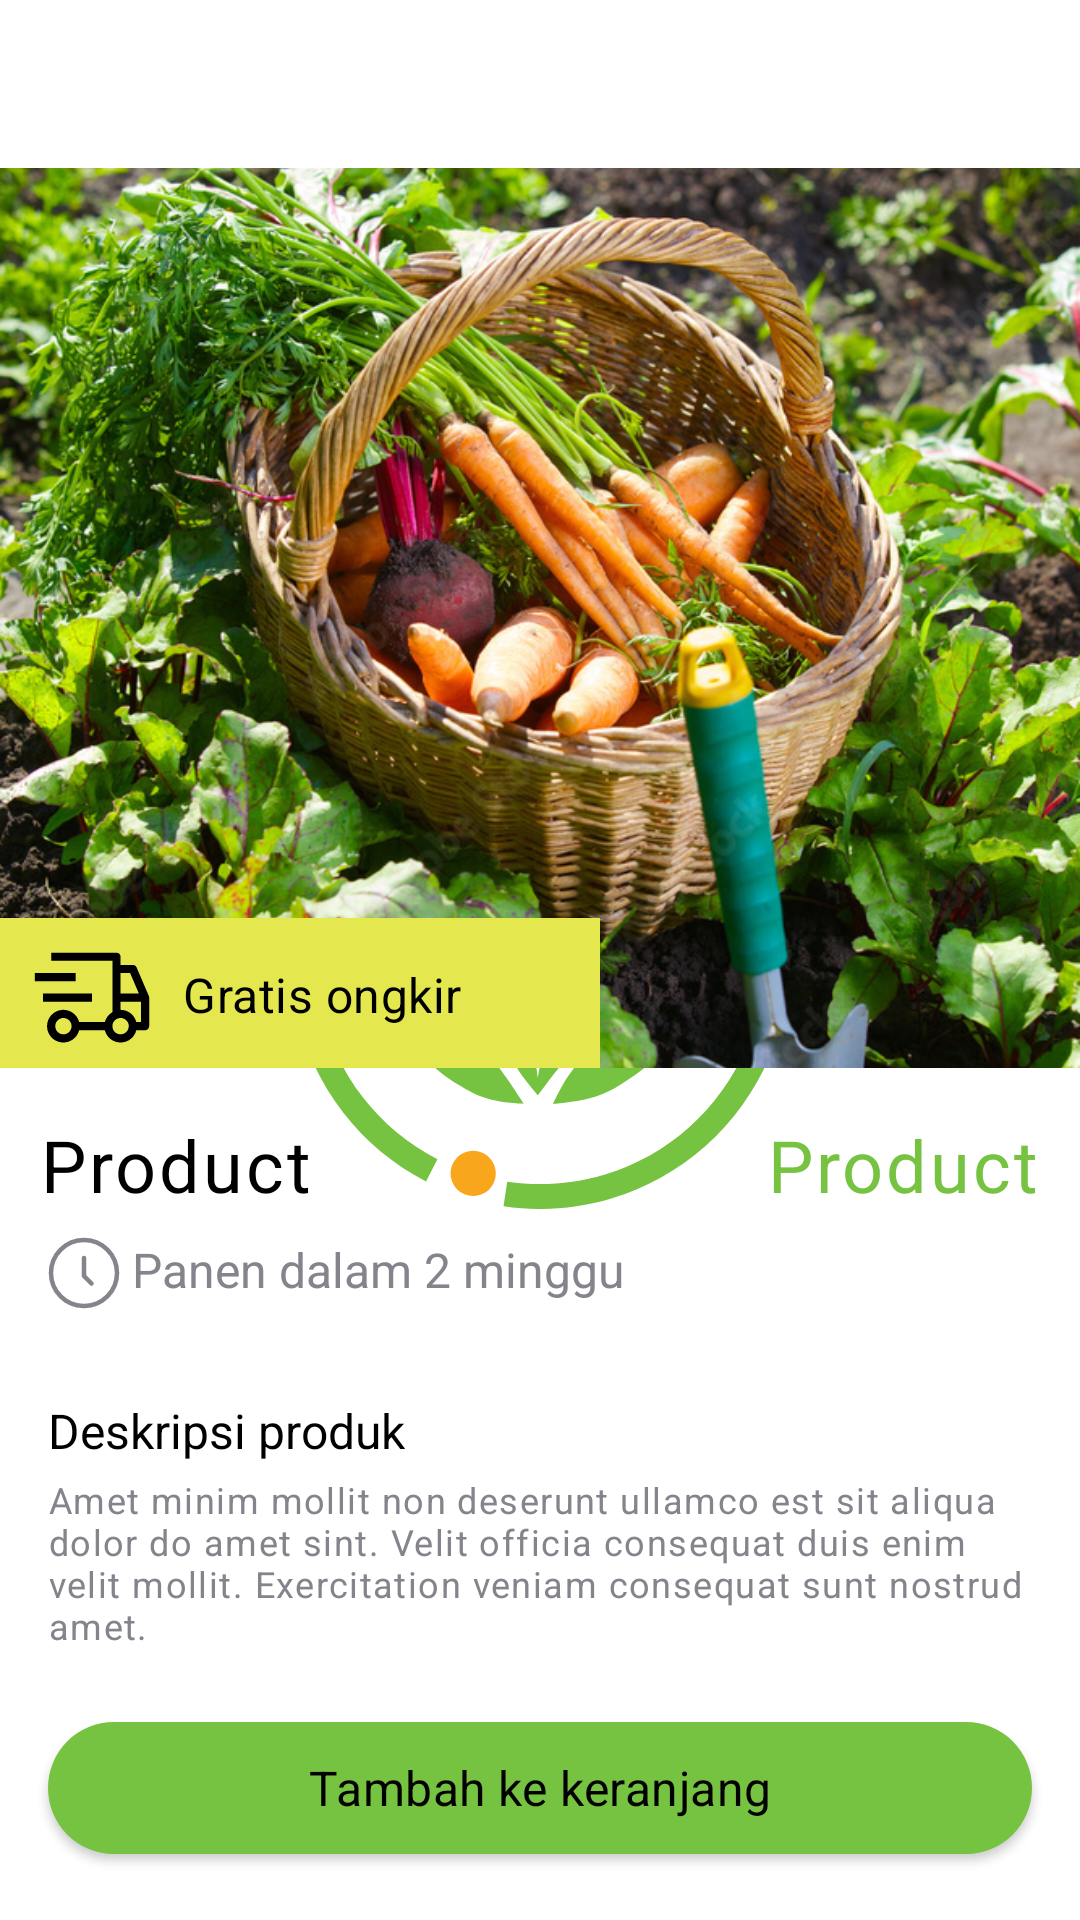

Icons on this 1080×1920 Android screen, each with its box as (x1, y1, x2, y2):
delivery: (34, 952, 150, 1043)
